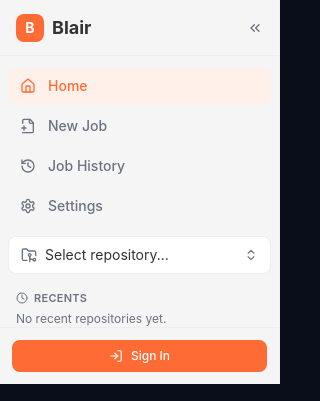
Test: Sidebar › expands back to its previous width when the expand button is clicked
Step 1. Click the button named "collapse sidebar" → (255, 28), box [247,20,263,36]
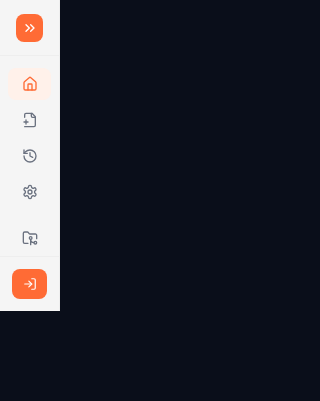
Step 2. Click the button named "expand sidebar" → (30, 28), box [16,14,43,42]
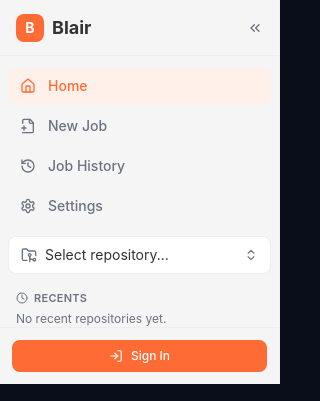
Expected: the text "Home" is shown, [48,76,88,96]
